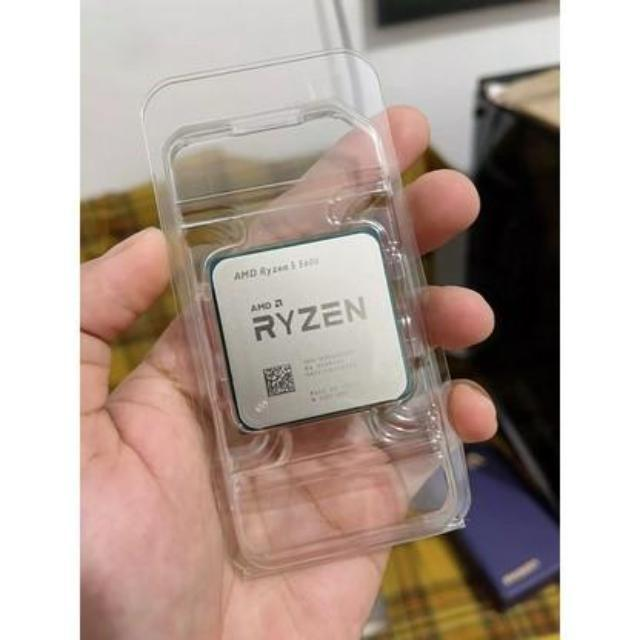CPU: (207, 229, 422, 434)
